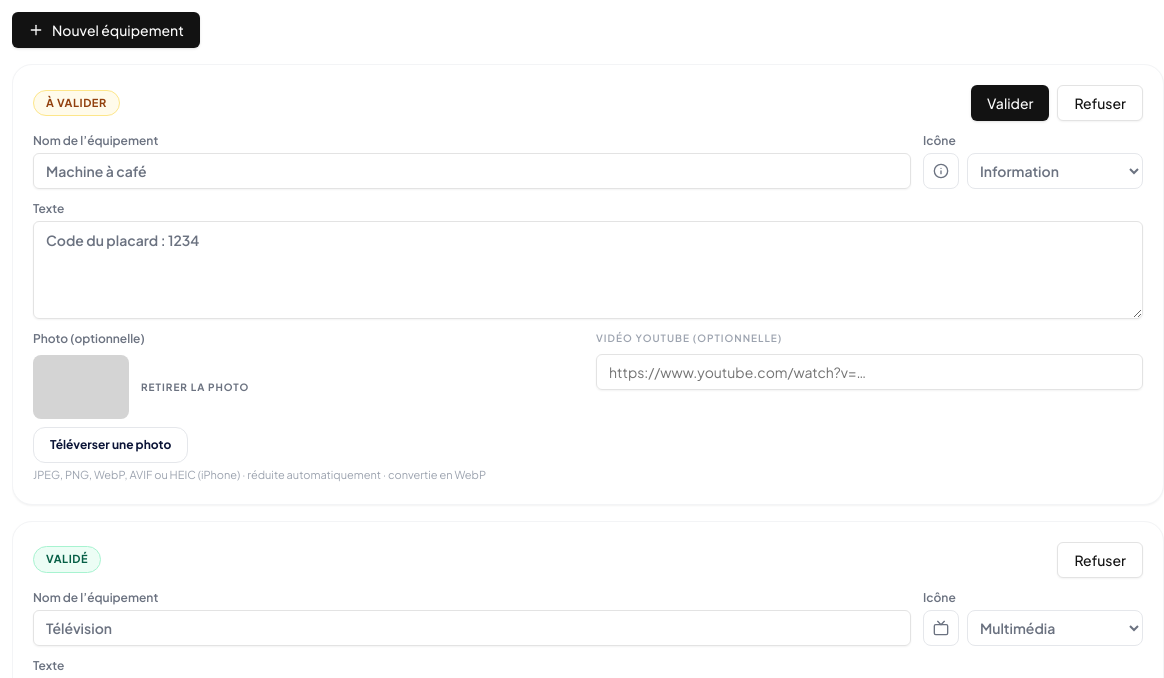
Test case: spec 095 AC-03 — administration de la bibliothèque › un équipement validé peut être refusé ; « Enregistrer » n’apparaît qu’après modification
The image size is (1164, 678).
expect the button "Enregistrer" is not shown: met
Replace the text in the field labelled "Nom de l’équipement" below "Validé" with "Télévision connectée": {"x": 472, "y": 628} [33, 610, 911, 646]
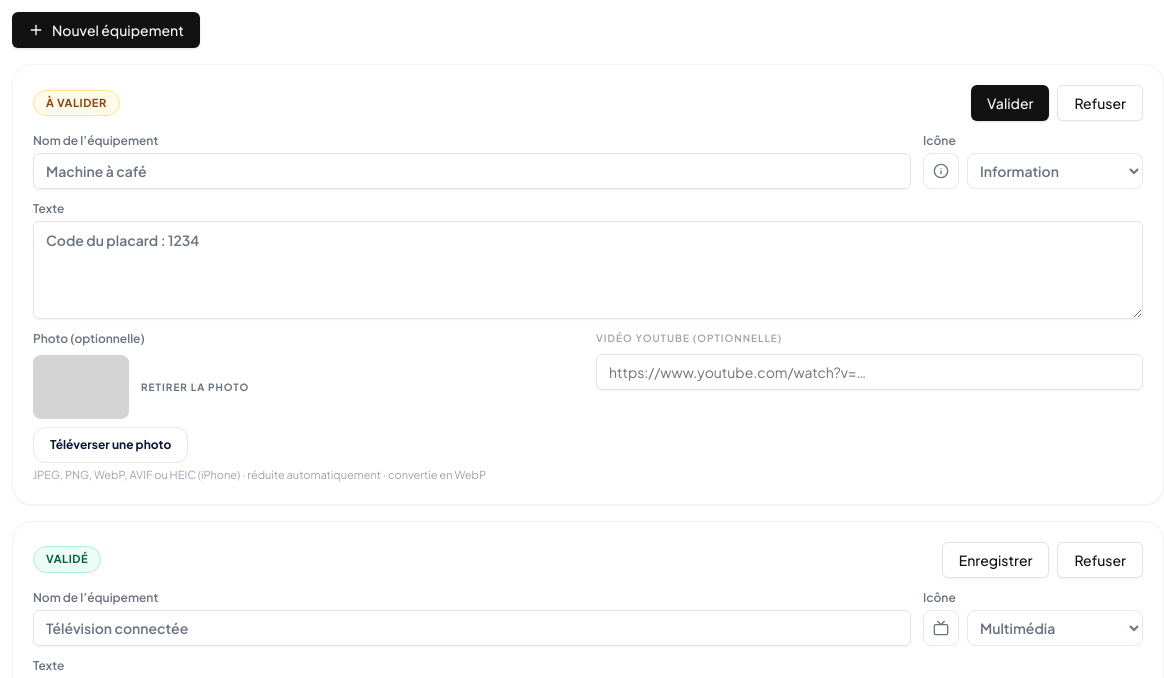
expect the button "Refuser" in the row of "Validé" is shown: met, box [1057, 542, 1143, 578]
expect the button "Enregistrer" is shown: met, box [942, 542, 1050, 578]
